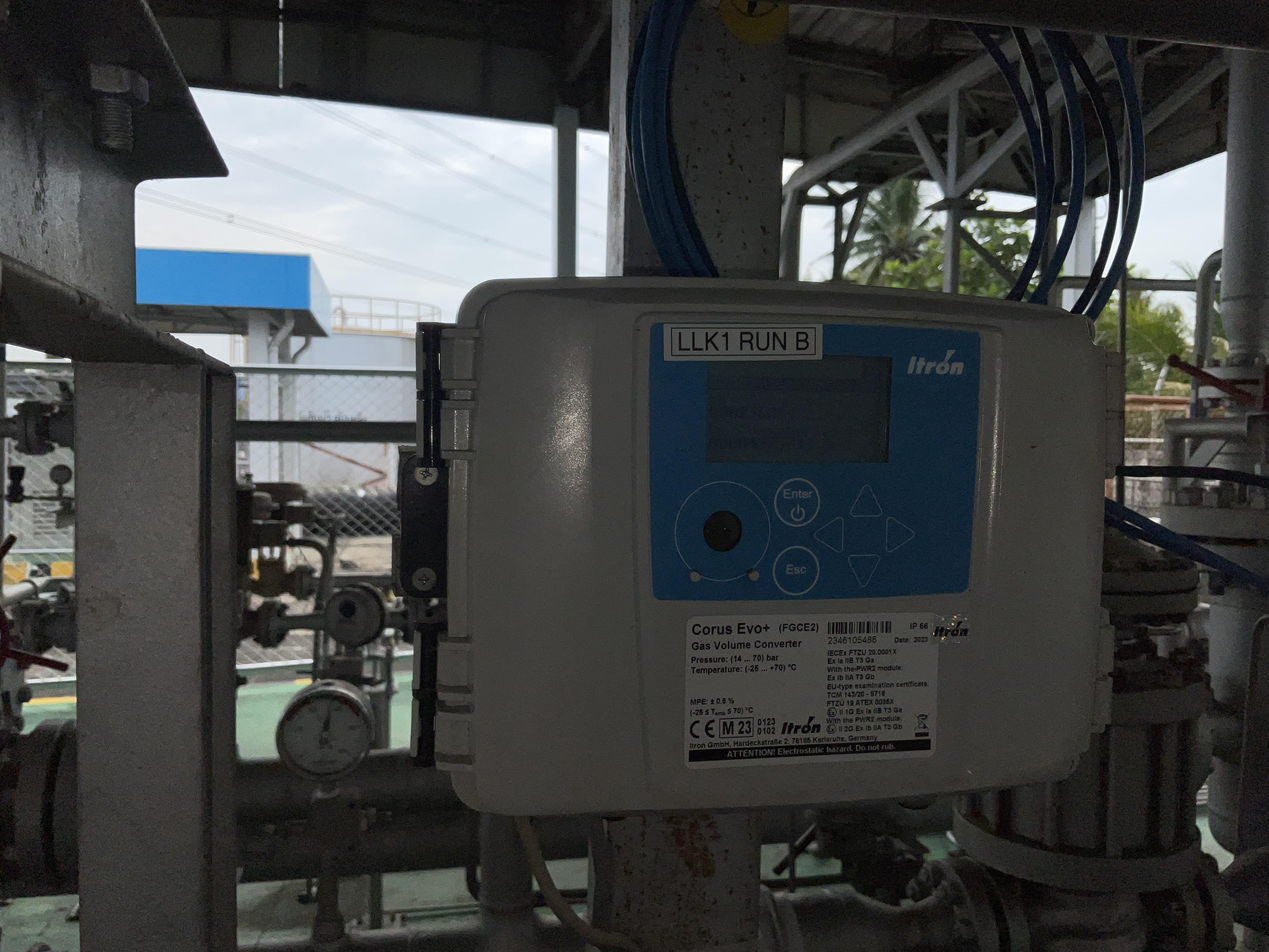digital_screen: (706, 355, 892, 463)
